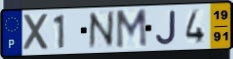1: (52, 13, 67, 50)
4: (184, 9, 206, 45)
J: (155, 9, 178, 47)
M: (114, 7, 149, 51)
N: (87, 9, 116, 51)
X: (23, 12, 51, 53)
